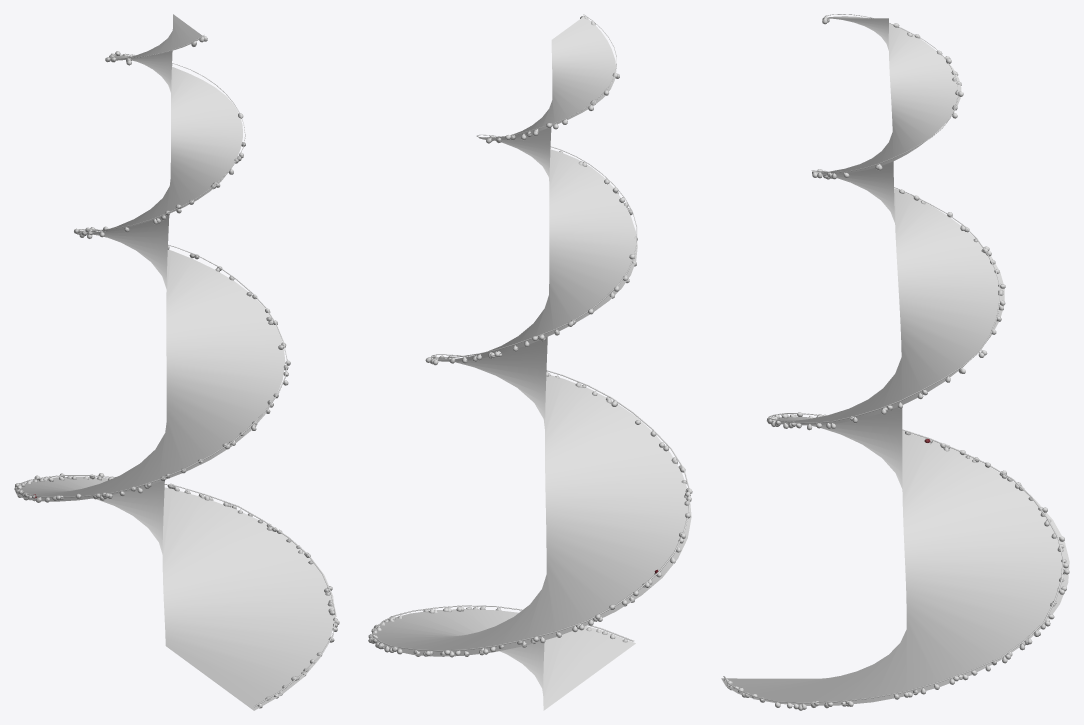
Rendered from LightWire.fbx.
The picture shows the model from 3 angles, left to right: view 1: azimuth 30°, elevation 25°; view 2: azimuth 150°, elevation 25°; view 3: azimuth 270°, elevation 25°; orthographic projection. The views are drawn at different scales.
Parts seen in each view (by area): view 1: springLatter.001, springLatter.003; view 2: springLatter.001, springLatter.003; view 3: springLatter.001, springLatter.003.
Part boxes in pixels (box(x1,y1,x2,y2)): springLatter.001: box(15, 14, 334, 710); springLatter.003: box(18, 35, 336, 707); springLatter.001: box(373, 16, 691, 710); springLatter.003: box(371, 14, 689, 651); springLatter.001: box(721, 16, 1069, 705); springLatter.003: box(723, 14, 1063, 703).
Bounding box in the file's own units: 437 × 976 × 465.
